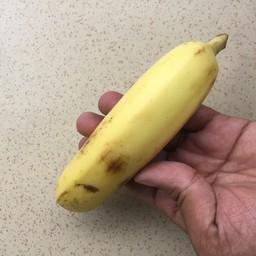Good_banana: (52, 30, 231, 214)
